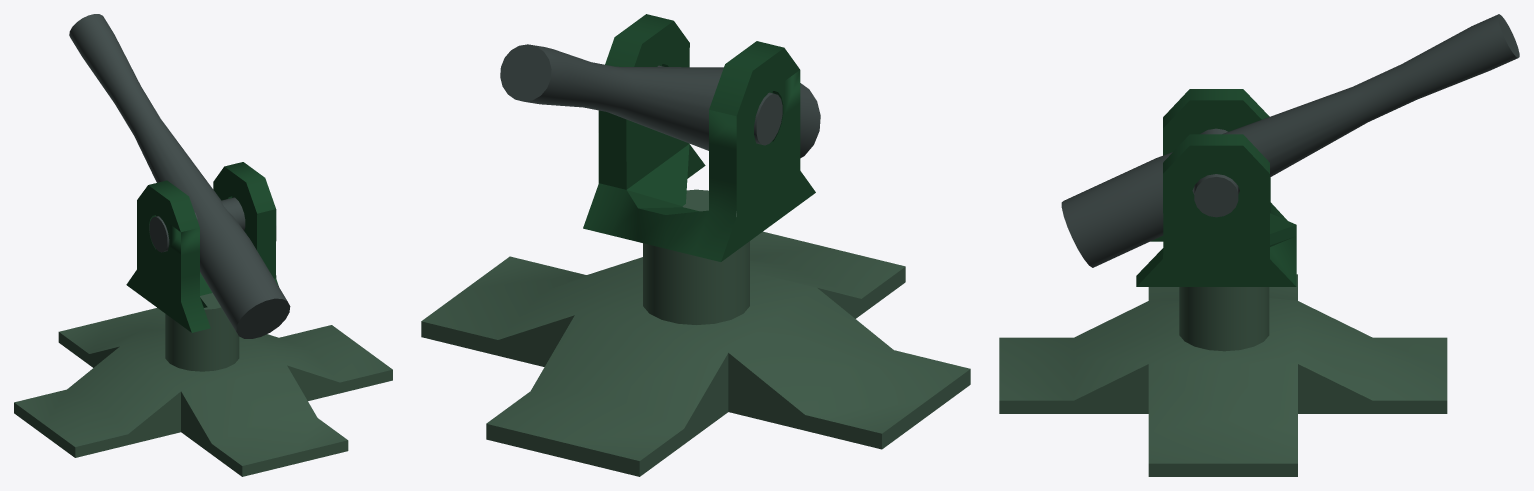
Rendered from AACannonTest.FBX.
3 views of the same model, side by side, from view 1: azimuth 30°, elevation 25°; view 2: azimuth 150°, elevation 25°; view 3: azimuth 270°, elevation 25° (orthographic). The views are drawn at different scales.
Visible parts, largest first — view 1: Box001, Cylinder004, Cylinder001; view 2: Box001, Cylinder001, Cylinder004; view 3: Box001, Cylinder001, Cylinder004.
Boxes of the visible parts, <box> form: Box001: <box>14,308,392,476</box>; Cylinder004: <box>69,14,290,338</box>; Cylinder001: <box>126,162,278,371</box>; Box001: <box>421,231,970,476</box>; Cylinder001: <box>583,14,815,324</box>; Cylinder004: <box>500,44,820,158</box>; Box001: <box>999,274,1447,476</box>; Cylinder001: <box>1136,89,1296,351</box>; Cylinder004: <box>1061,14,1519,267</box>.
Size of the model in its own units: 65 by 75.49 by 58.59.
Materials: 4 (4 with a texture image).
